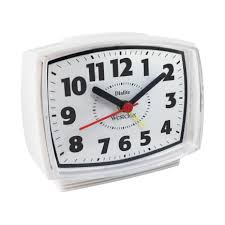alarm_clock: (17, 28, 203, 189), (17, 39, 203, 189)
